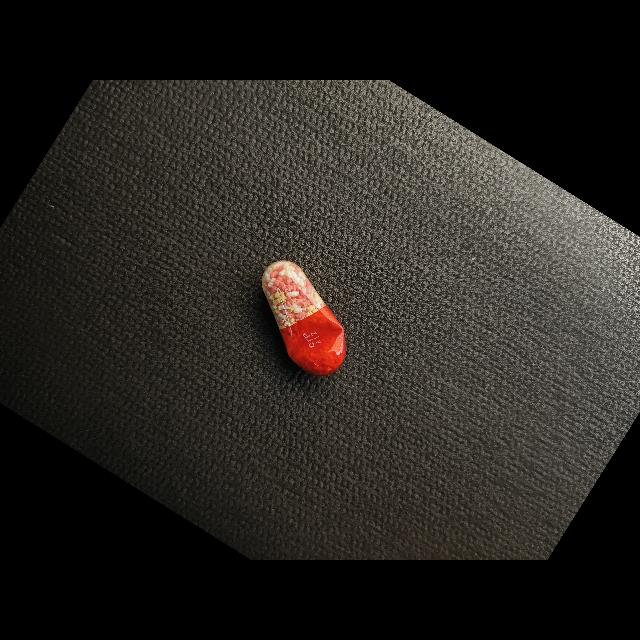Defective Capsule: (262, 260, 346, 376)
